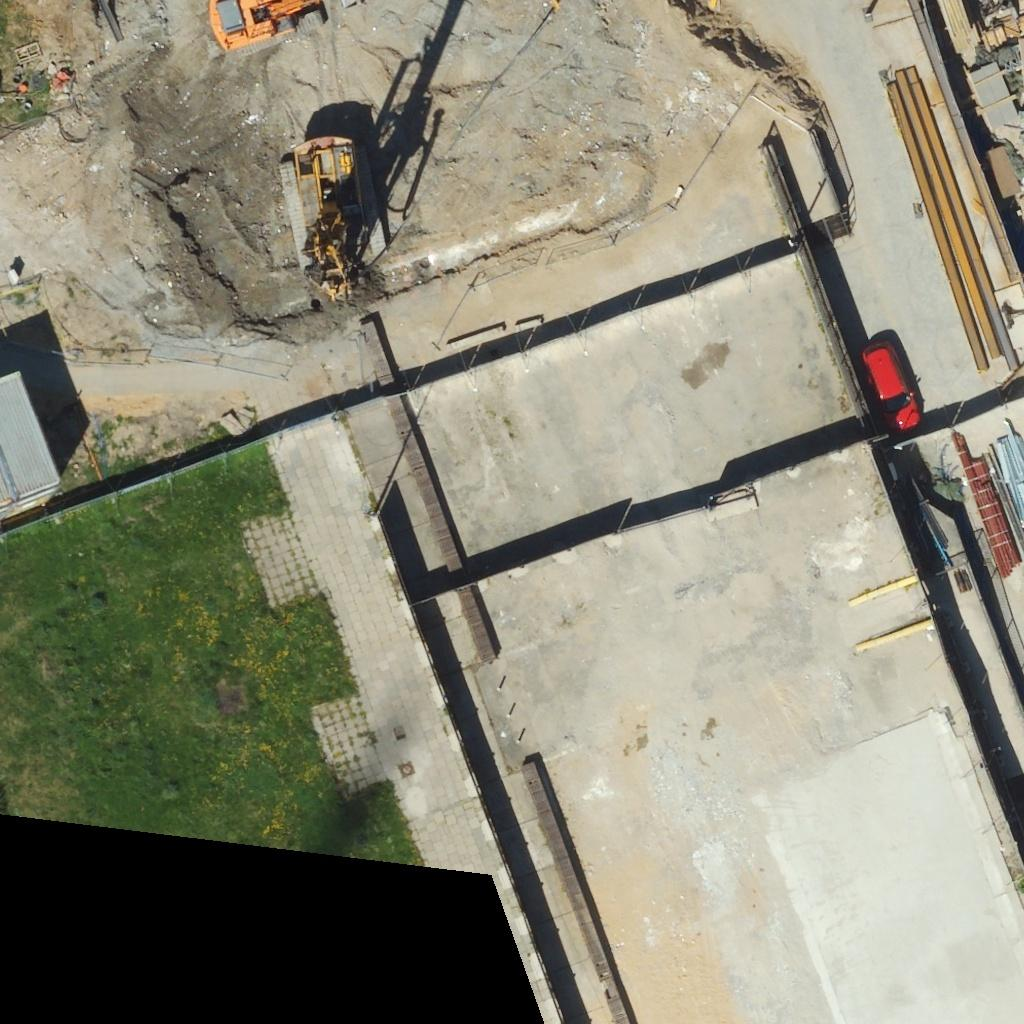koparka: (281, 136, 375, 300), (208, 0, 325, 56)
samochod_osobowy: (863, 342, 919, 431)
